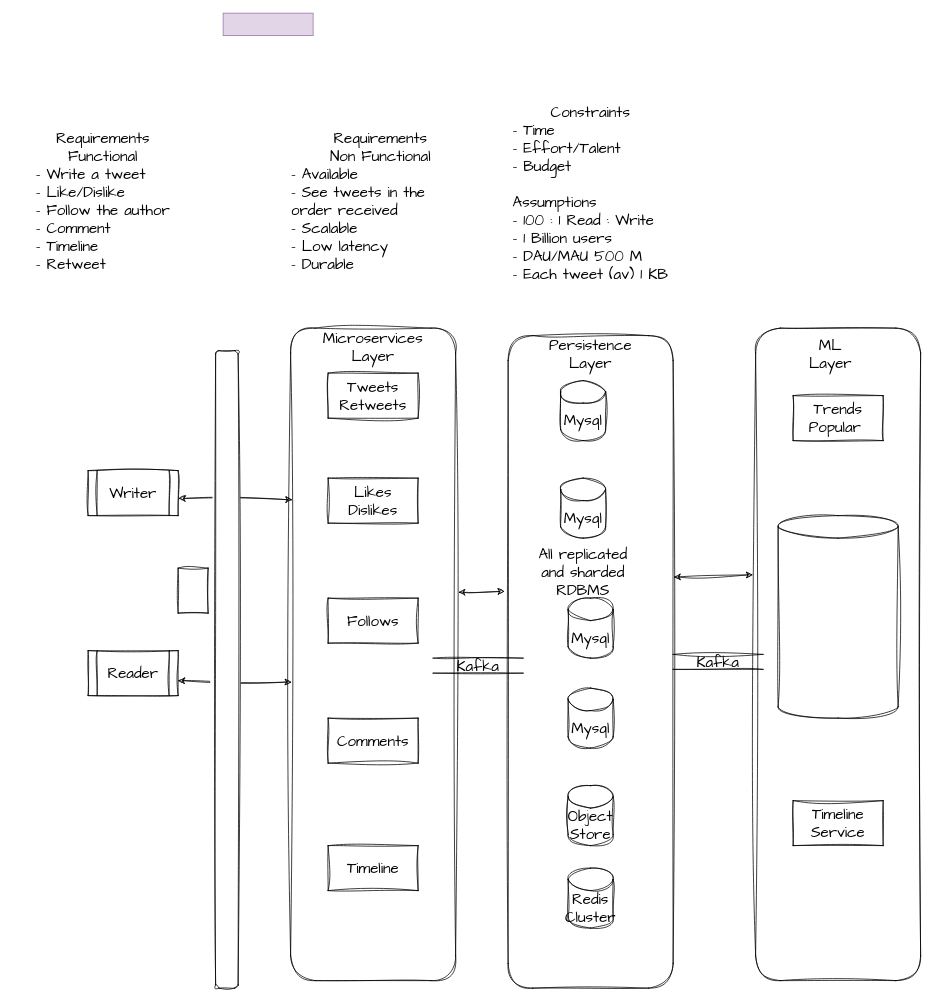
Image size: 934x1001. Some labels were removed from this diagram. The centre of each missing label's shape, as x and y in pixels:
"CDN" belongs at (x=192, y=590).
"LB Auth" belongs at (x=226, y=669).
"NoSQL Casandra" belongs at (x=837, y=616).
"Twitter" belongs at (x=267, y=24).
